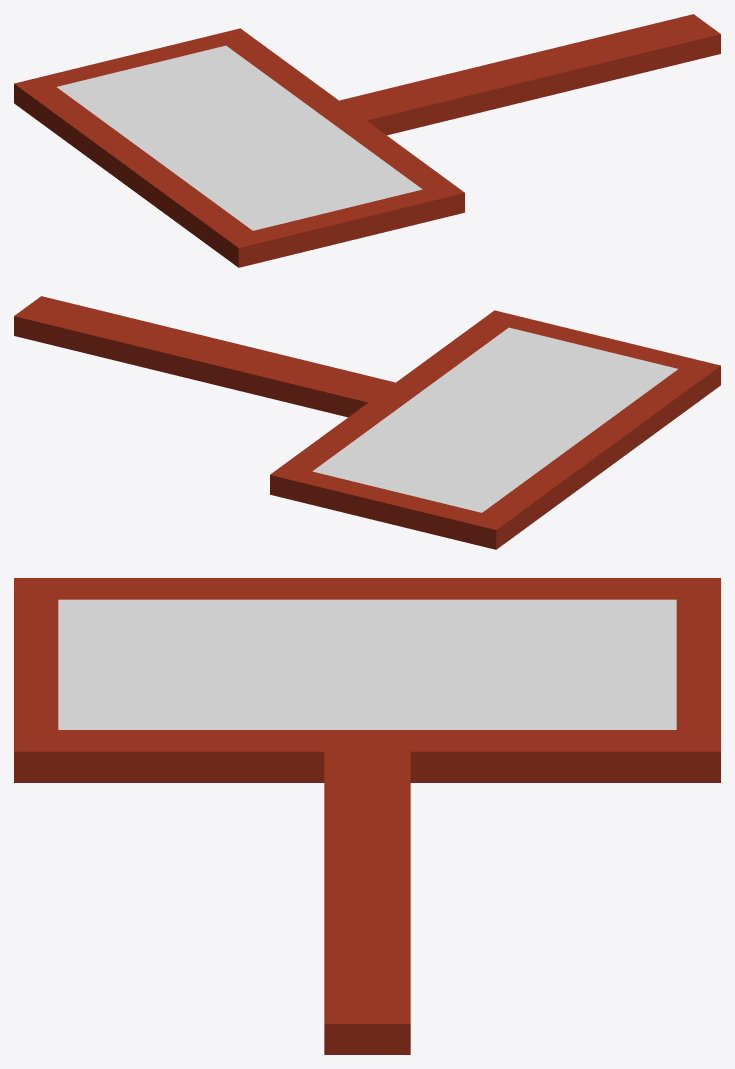
File: NoticeBoard.fbx
3 views of the same model, one above another, from view 1: azimuth 30°, elevation 25°; view 2: azimuth 150°, elevation 25°; view 3: azimuth 270°, elevation 25° (orthographic). The views are drawn at different scales.
Parts seen in each view (by area): view 1: Cube.001; view 2: Cube.001; view 3: Cube.001.
Boxes of the visible parts, x1,y1,x2,y2 form: Cube.001: (14, 14, 720, 267); Cube.001: (14, 296, 720, 549); Cube.001: (14, 578, 720, 1054).
Size of the model in its own units: 1364 by 44.37 by 914.
